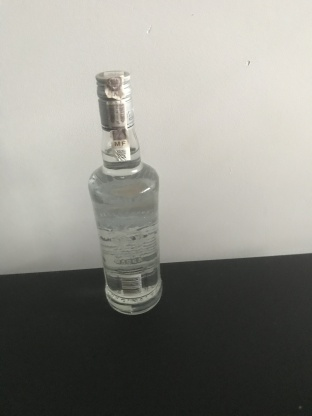nakretka: (94, 68, 135, 131)
